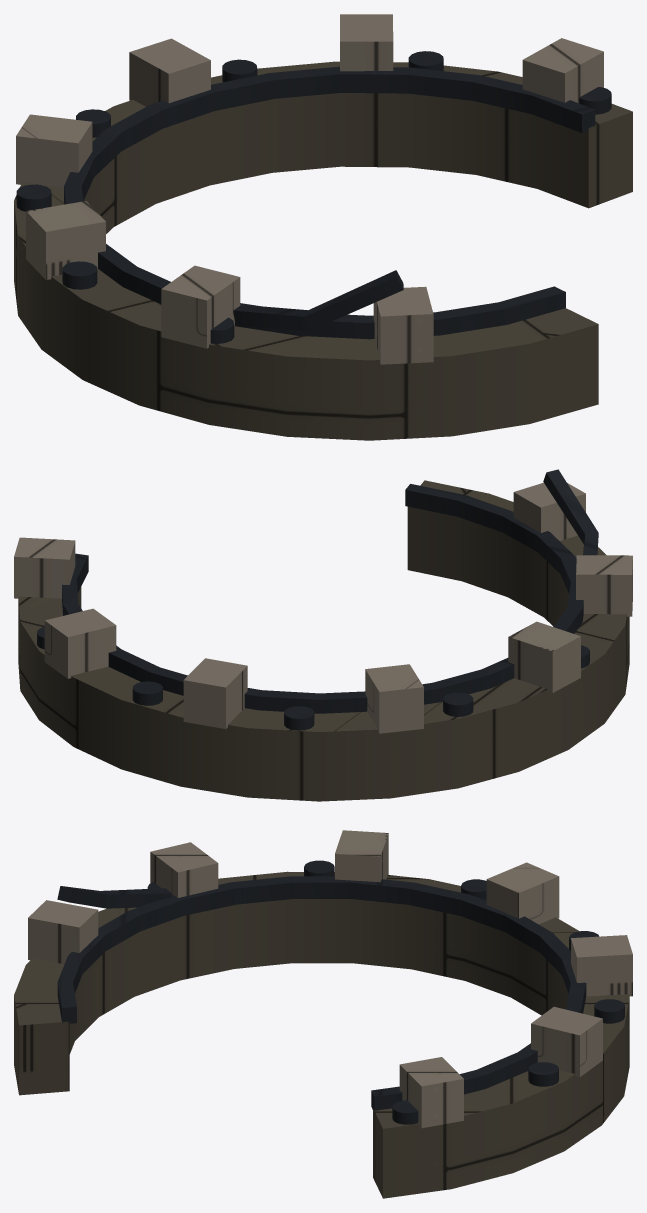
File: cargo-broken-docking-collar_lod1.glb
3 views of the same model, one above another, from view 1: azimuth 30°, elevation 25°; view 2: azimuth 150°, elevation 25°; view 3: azimuth 270°, elevation 25° (orthographic). The views are drawn at different scales.
Visible parts, largest first — view 1: LOD1_Hull, LOD1_BrushedMetal, LOD1_MechanicalDark; view 2: LOD1_Hull, LOD1_BrushedMetal, LOD1_MechanicalDark; view 3: LOD1_Hull, LOD1_BrushedMetal, LOD1_MechanicalDark.
Part boxes in pixels (<box>): LOD1_Hull: <box>14,61,632,440</box>; LOD1_BrushedMetal: <box>16,14,603,364</box>; LOD1_MechanicalDark: <box>16,51,611,343</box>; LOD1_Hull: <box>18,480,629,801</box>; LOD1_BrushedMetal: <box>14,482,632,733</box>; LOD1_MechanicalDark: <box>37,469,598,730</box>; LOD1_Hull: <box>14,871,629,1198</box>; LOD1_BrushedMetal: <box>28,830,632,1128</box>; LOD1_MechanicalDark: <box>57,860,624,1124</box>.
Size of the model in its own units: 2.39 by 0.5747 by 2.41.
3 materials, 3 textured.
